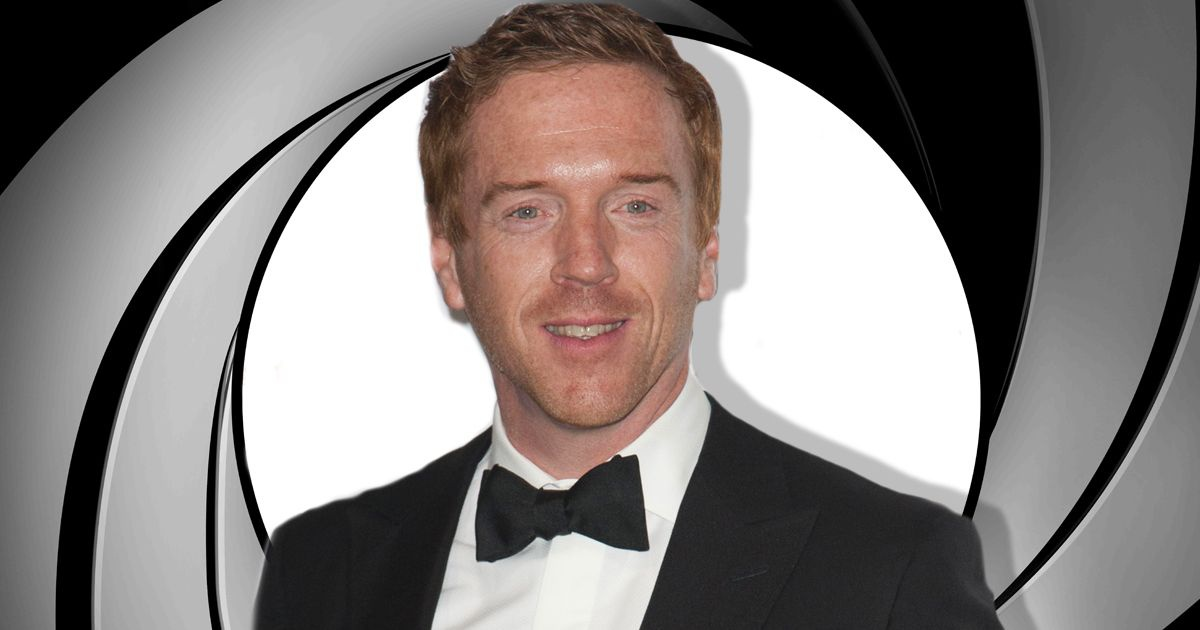bad: (438, 142, 706, 409)
